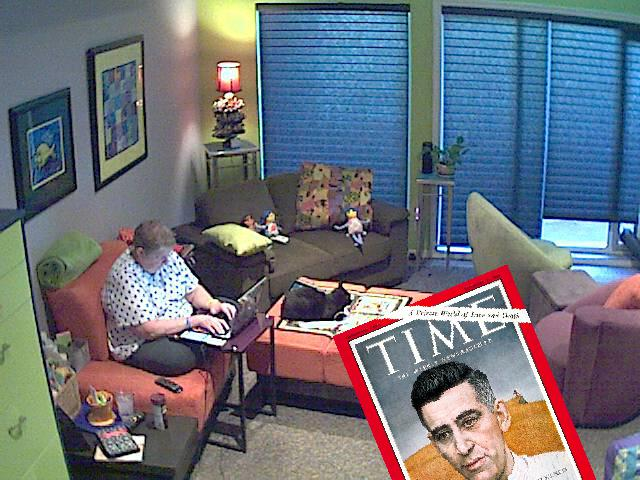times: (331, 264, 594, 480)
